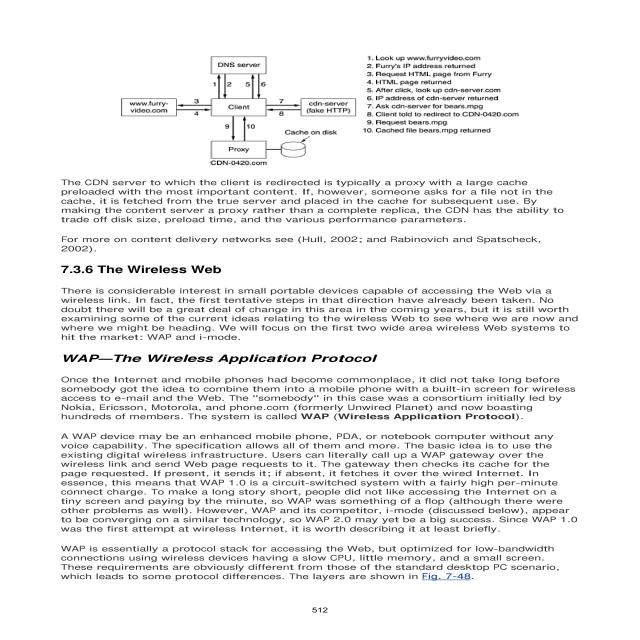diagram: (87, 31, 536, 171)
